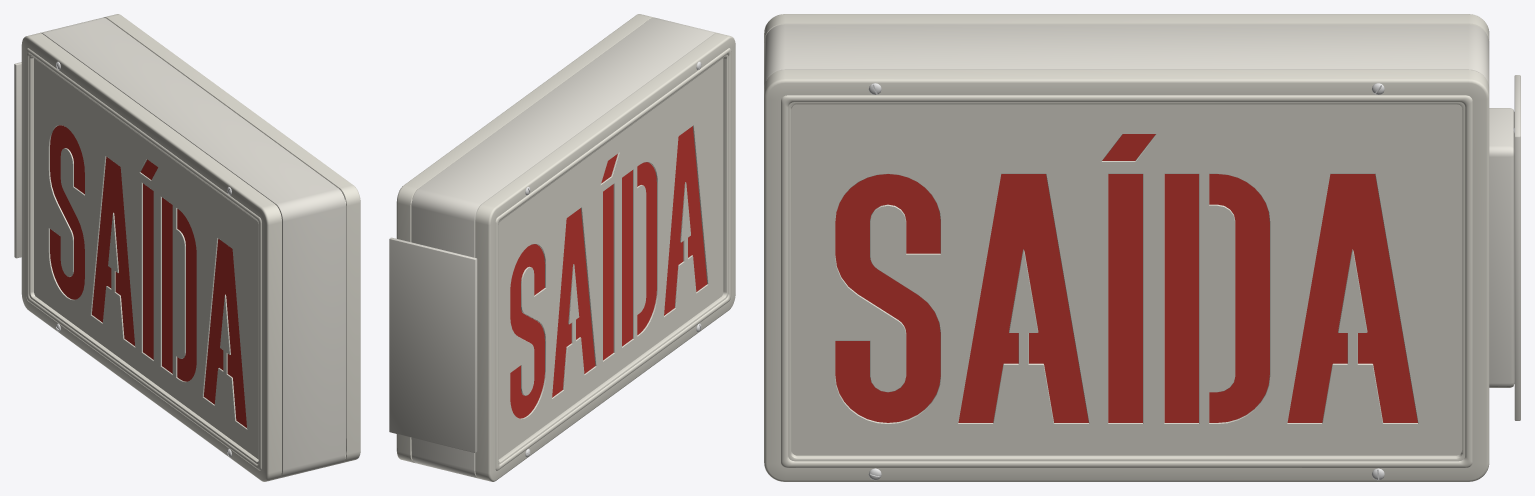
The model's file is Kit_ExitSign_End.fbx.
The picture shows the model from 3 angles, left to right: view 1: azimuth 30°, elevation 25°; view 2: azimuth 150°, elevation 25°; view 3: azimuth 270°, elevation 25°; orthographic projection. The views are drawn at different scales.
Parts seen in each view (by area): view 1: Kit_ExitSign_End_LOD0; view 2: Kit_ExitSign_End_LOD0; view 3: Kit_ExitSign_End_LOD0.
Part boxes in pixels (x1,y1,x2,y2): Kit_ExitSign_End_LOD0: [14, 14, 360, 481]; Kit_ExitSign_End_LOD0: [389, 14, 735, 481]; Kit_ExitSign_End_LOD0: [764, 14, 1520, 481].
Size of what is drawn, in the model's own units: 0.0789 by 0.212 by 0.361.
